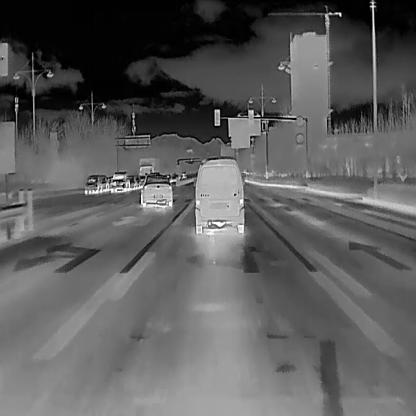car: (194, 156, 244, 233), (138, 172, 173, 207), (82, 173, 108, 194), (136, 155, 156, 177), (109, 169, 127, 192)
